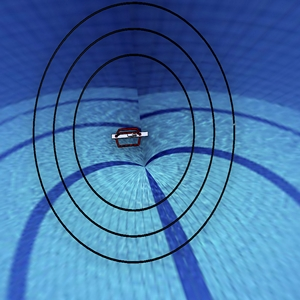circle: (19, 1, 249, 278)
submarine: (105, 115, 154, 157)
